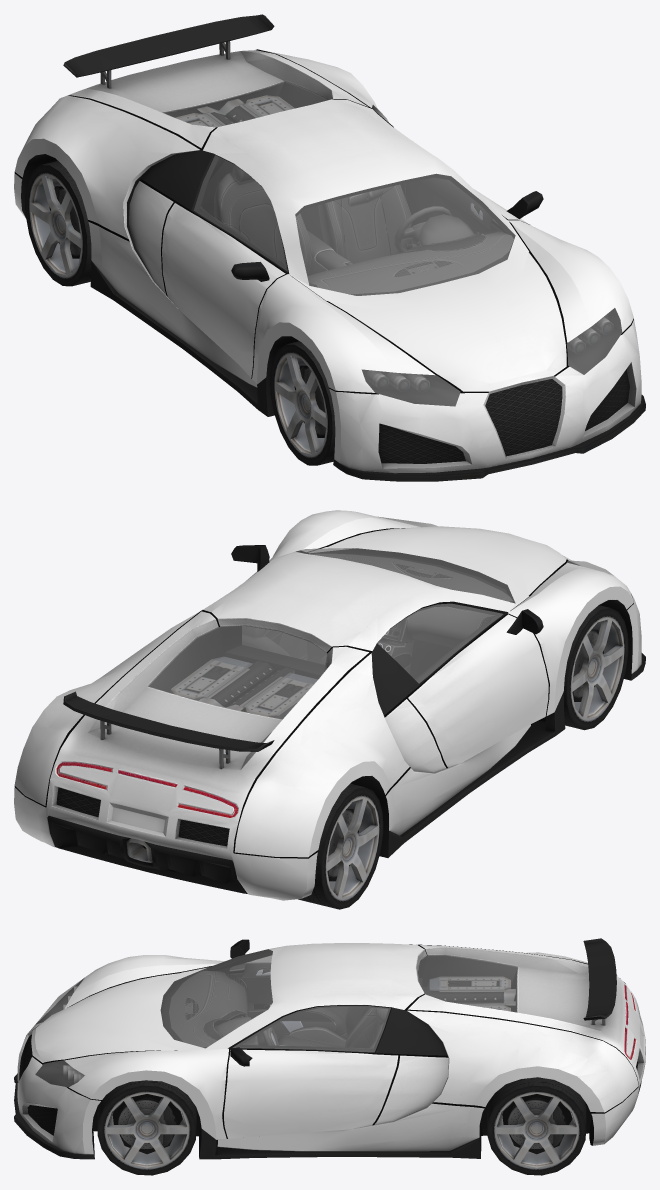
File: Car29 Saad.fbx
3 views of the same model, one above another, from view 1: azimuth 30°, elevation 25°; view 2: azimuth 150°, elevation 25°; view 3: azimuth 270°, elevation 25° (orthographic). The views are drawn at different scales.
Parts seen in each view (by area): view 1: Car29Body, Car29Matte, Car29_Glass, Car_29_Interior, Car29_Wheels4, Car29_Wheels1, Car29_Steering_Wheel; view 2: Car29Body, Car29Matte, Car29_Glass, Car_29_Interior, Car29_Wheels4, Car29_Wheels1, Car29_Taillights; view 3: Car29Body, Car29Matte, Car29_Glass, Car_29_Interior, Car29_Wheels3, Car29_Wheels2.
Part boxes in pixels (x1=…): Car29Body: x1=14, y1=49, x2=641, y2=473; Car29Matte: x1=21, y1=14, x2=645, y2=481; Car29_Glass: x1=162, y1=81, x2=622, y2=406; Car_29_Interior: x1=199, y1=166, x2=513, y2=294; Car29_Wheels4: x1=25, y1=161, x2=91, y2=286; Car29_Wheels1: x1=270, y1=341, x2=335, y2=465; Car29_Steering_Wheel: x1=394, y1=206, x2=451, y2=252; Car29Body: x1=14, y1=510, x2=641, y2=900; Car29Matte: x1=47, y1=545, x2=645, y2=893; Car29_Glass: x1=148, y1=516, x2=613, y2=719; Car_29_Interior: x1=242, y1=553, x2=512, y2=680; Car29_Wheels4: x1=298, y1=783, x2=383, y2=909; Car29_Wheels1: x1=563, y1=605, x2=628, y2=730; Car29_Taillights: x1=56, y1=762, x2=237, y2=817; Car29Body: x1=17, y1=943, x2=645, y2=1154; Car29Matte: x1=14, y1=938, x2=641, y2=1159; Car29_Glass: x1=35, y1=949, x2=517, y2=1087; Car_29_Interior: x1=169, y1=963, x2=388, y2=1050; Car29_Wheels3: x1=487, y1=1077, x2=586, y2=1175; Car29_Wheels2: x1=97, y1=1080, x2=196, y2=1175.
Bounding box in the file's own units: 2.03 × 1.21 × 4.52.
Materials: 6 (5 with a texture image).
